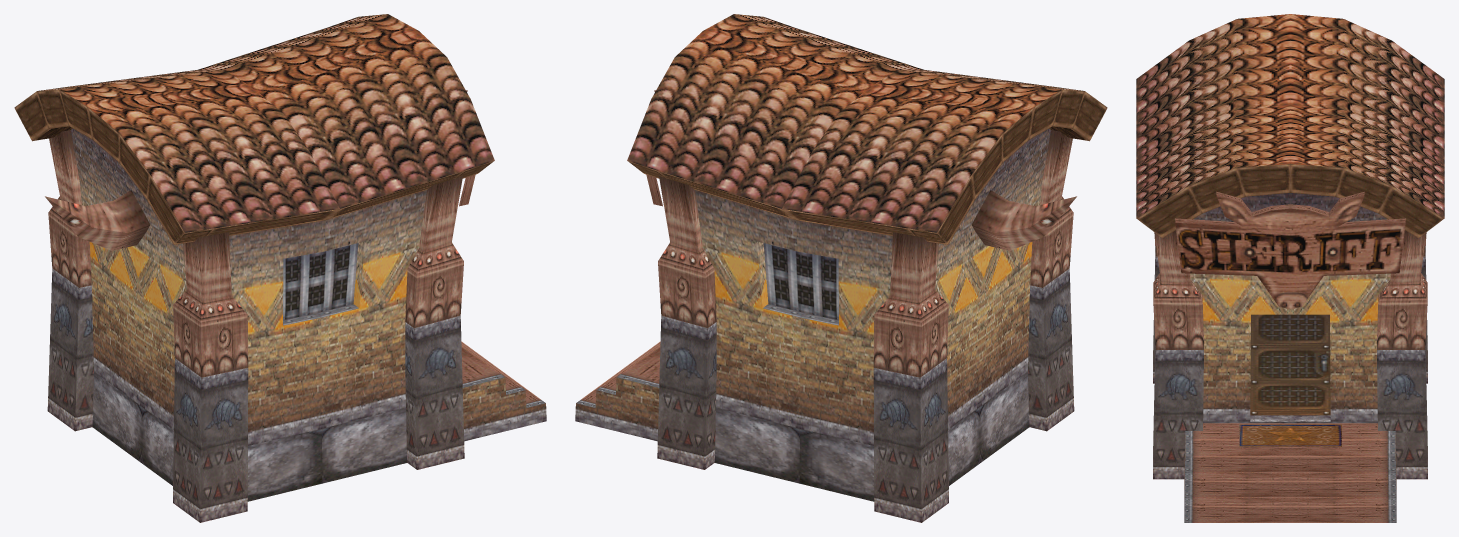
The picture shows the model from 3 angles, left to right: view 1: azimuth 30°, elevation 25°; view 2: azimuth 150°, elevation 25°; view 3: azimuth 270°, elevation 25°; orthographic projection. The views are drawn at different scales.
Visible parts, largest first — view 1: objsheriff_office; view 2: objsheriff_office; view 3: objsheriff_office.
Boxes of the visible parts, x1,y1,x2,y2 form: objsheriff_office: [14, 14, 546, 522]; objsheriff_office: [575, 14, 1107, 522]; objsheriff_office: [1136, 14, 1444, 522].
Size of the model in its own units: 453 by 361 by 302.
1 material, 1 textured.
